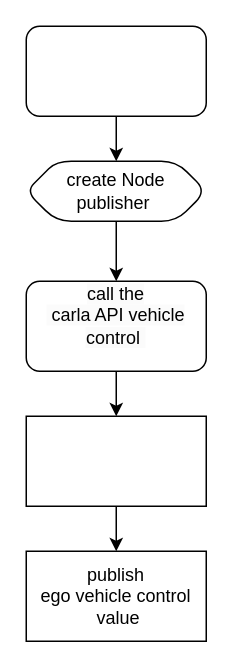
Some shapes in this 233 by 668 pixel diagram are drawn without their labels. The shapes that lost their labels are listed below. From the top down, each one's centre as x and y in pixels, then its label:
point (115, 70): import libraries
point (115, 460): Set the throttle vehicle control
